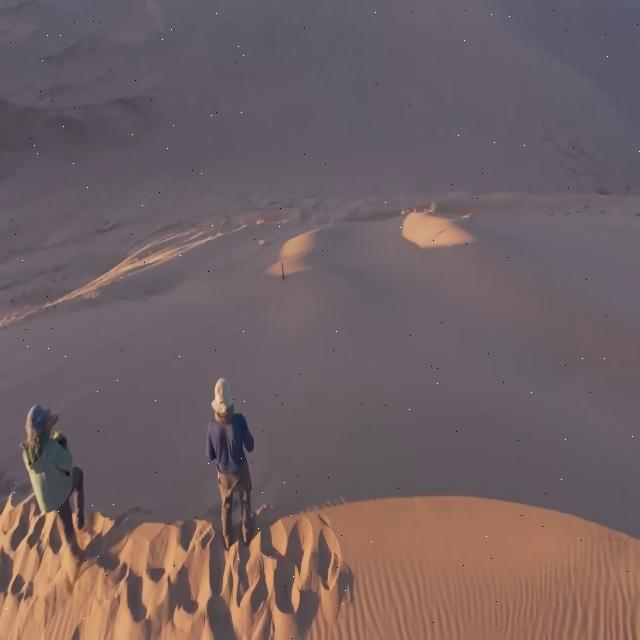Tire: (281, 263, 285, 279)
